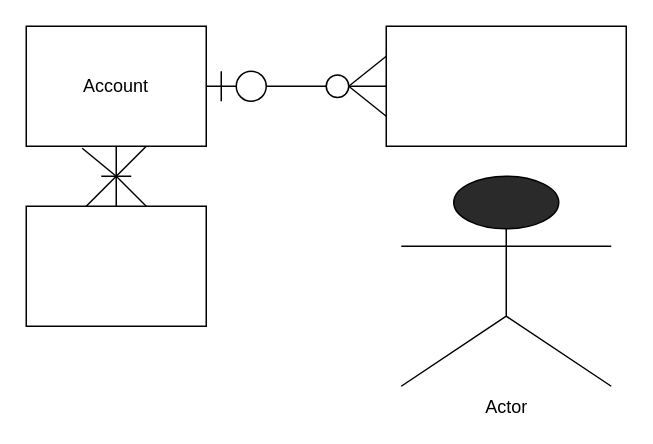
Some shapes in this 653 by 444 pixel diagram are drawn without their labels. Here are the shapes that lost their labels. From the top down, the centre of each, then its label:
the point at 505,85: Image
the point at 115,265: Ingredients
